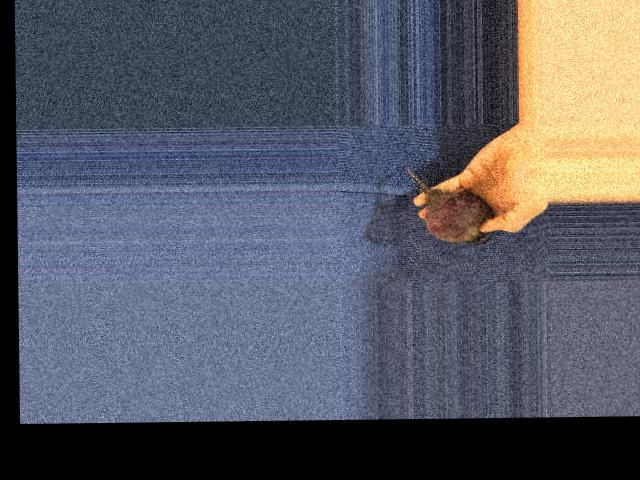beet: (406, 166, 493, 245)
